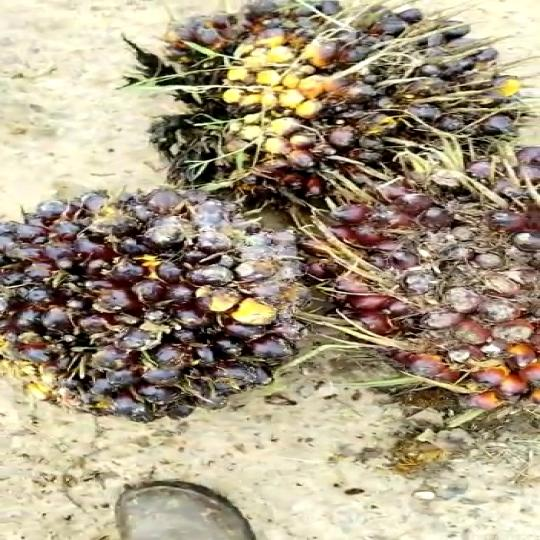kurang masak: (124, 0, 540, 219), (0, 161, 305, 400), (294, 140, 540, 422)
